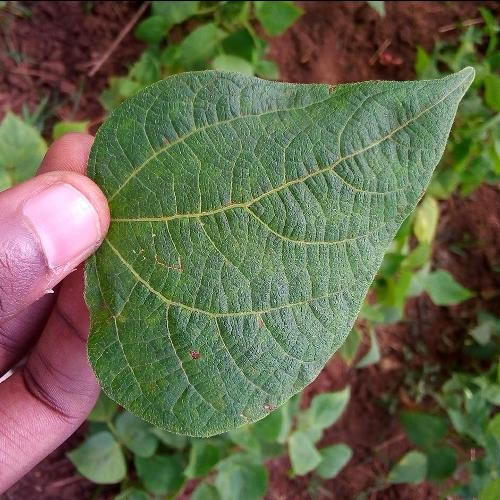sehat: (119, 124, 322, 360)
